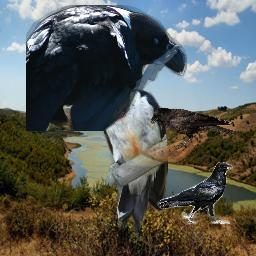Crow: (26, 5, 188, 131), (157, 162, 234, 224), (148, 107, 235, 149)
Woodpecker: (63, 68, 168, 236)
